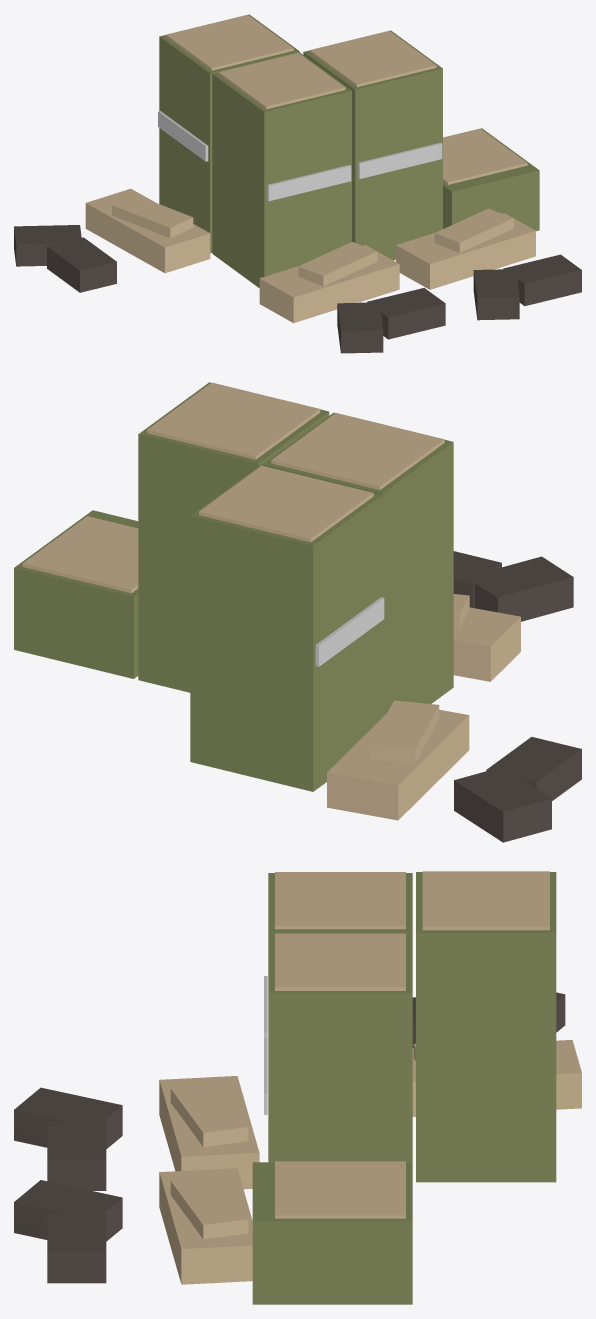
Rendered from SM_HescoRemate_v2_Escalonado_e1_Danado_LOD1.fbx.
The picture shows the model from 3 angles, top to bottom: view 1: azimuth 30°, elevation 25°; view 2: azimuth 150°, elevation 25°; view 3: azimuth 270°, elevation 25°; orthographic projection. The views are drawn at different scales.
Visible parts, largest first — view 1: SM_hesco_piezas_v29_LOD1; view 2: SM_hesco_piezas_v29_LOD1; view 3: SM_hesco_piezas_v29_LOD1.
Part boxes in pixels (x1,y1,x2,y2): SM_hesco_piezas_v29_LOD1: (14, 14, 581, 353); SM_hesco_piezas_v29_LOD1: (14, 382, 581, 842); SM_hesco_piezas_v29_LOD1: (14, 871, 581, 1304).
Size of the model in its own units: 5.25 by 2.13 by 4.33.
